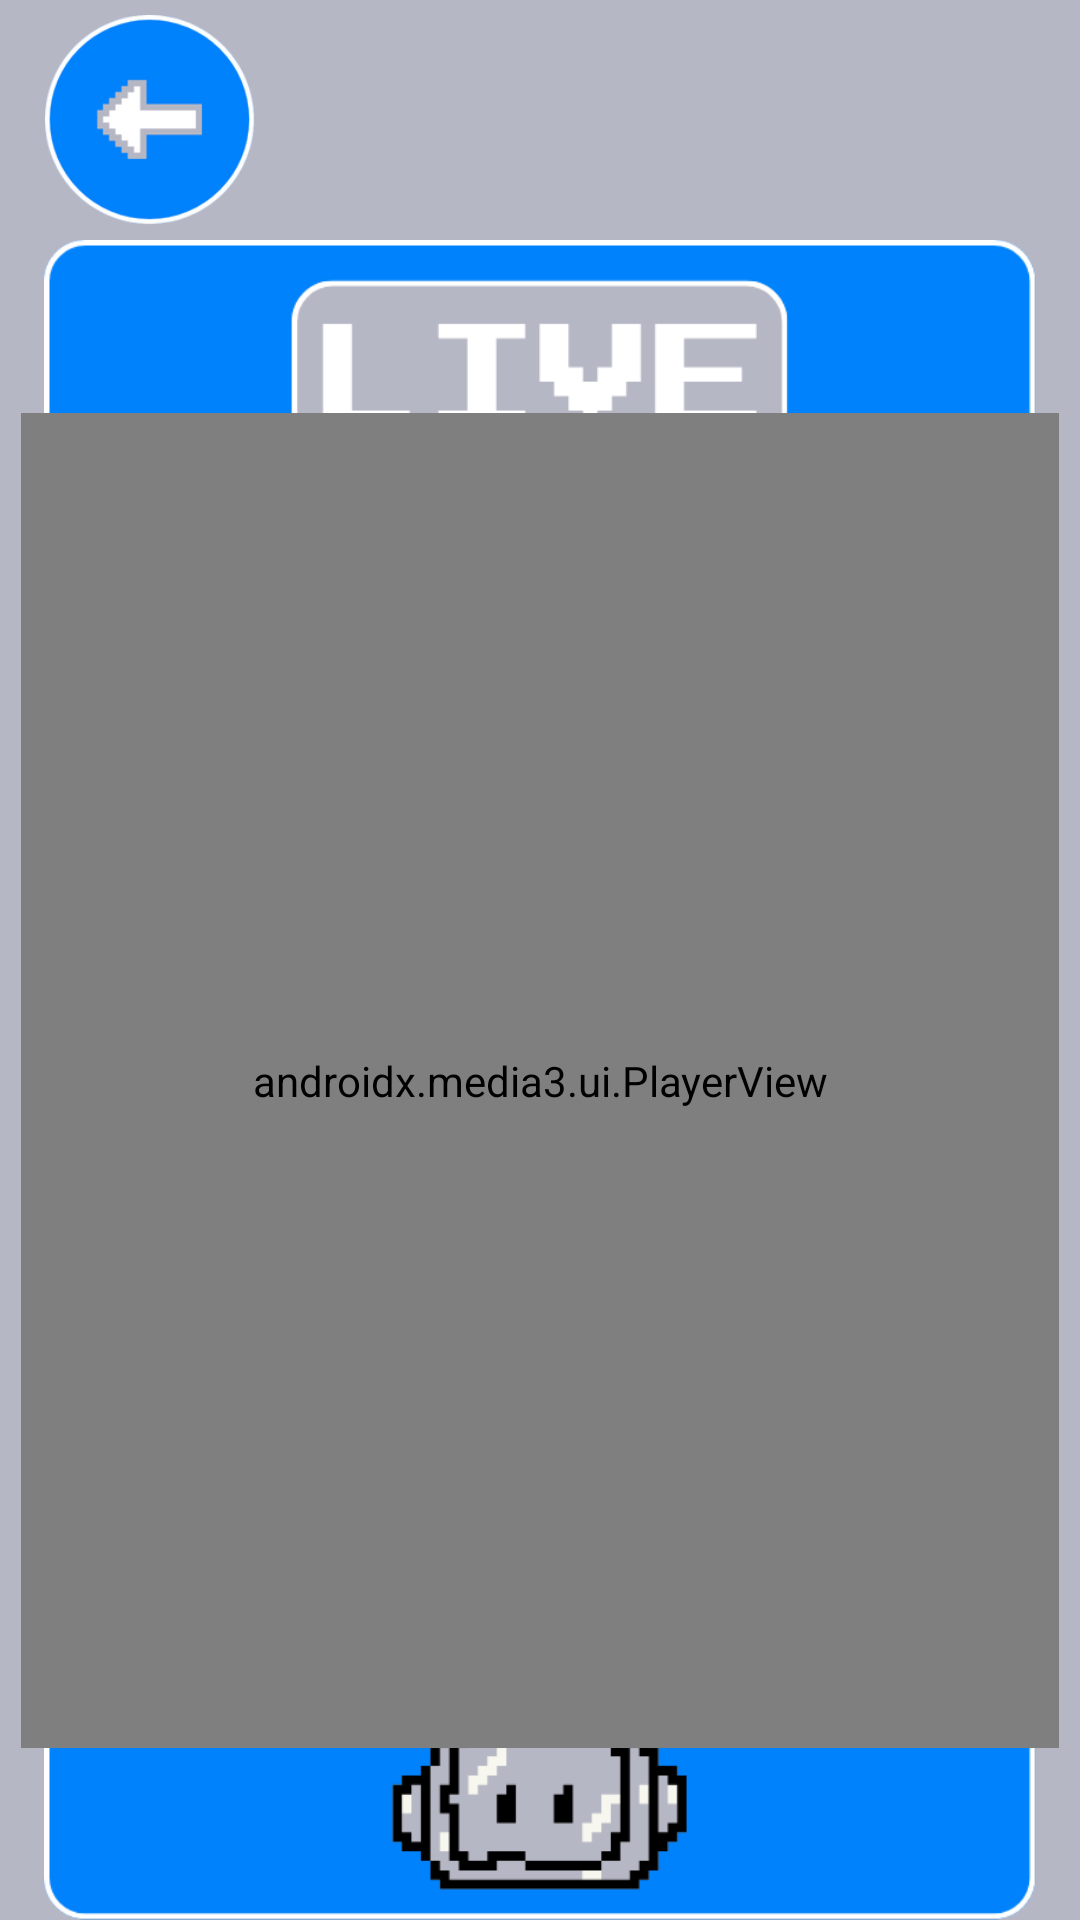

Point at icon controls on the screen. Image size 1080px x 1920px, points as (x,y).
back: (149,119)
